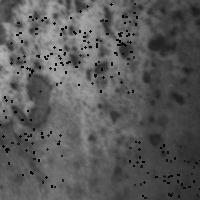pitted_surface: (52, 6, 200, 156), (75, 32, 133, 91), (79, 3, 136, 62), (17, 16, 74, 72), (10, 32, 65, 90), (8, 131, 62, 186), (9, 67, 55, 131), (129, 141, 180, 197), (0, 92, 33, 151), (168, 157, 200, 200)
